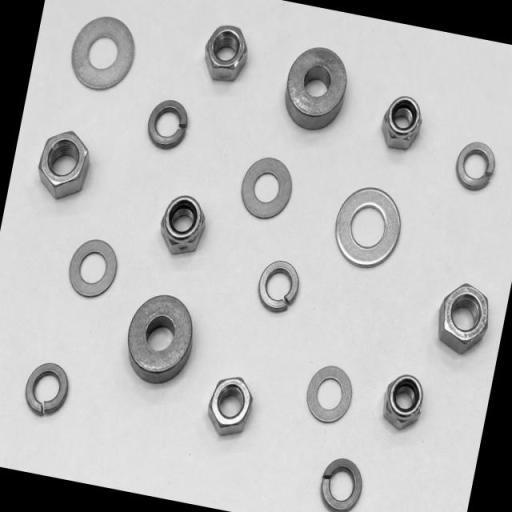Nut: (438, 283, 489, 354), (38, 131, 89, 199), (159, 195, 206, 255), (208, 376, 254, 436), (382, 373, 425, 432), (204, 25, 248, 82), (382, 95, 423, 151)
Washer: (126, 294, 194, 384), (334, 186, 402, 269), (285, 47, 348, 130), (71, 16, 135, 91), (240, 157, 294, 220), (67, 238, 119, 299), (305, 364, 354, 424), (24, 361, 70, 417), (319, 457, 364, 512), (257, 259, 301, 313), (454, 141, 497, 192), (146, 99, 189, 150)
